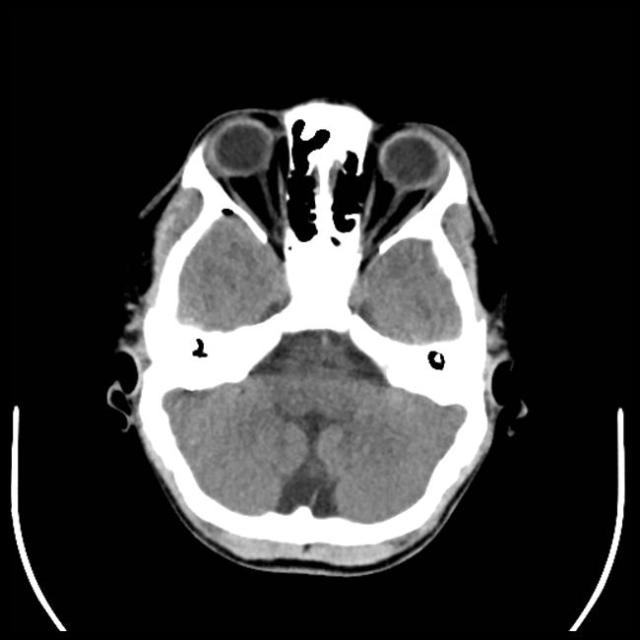lesion: (104, 94, 527, 578)
